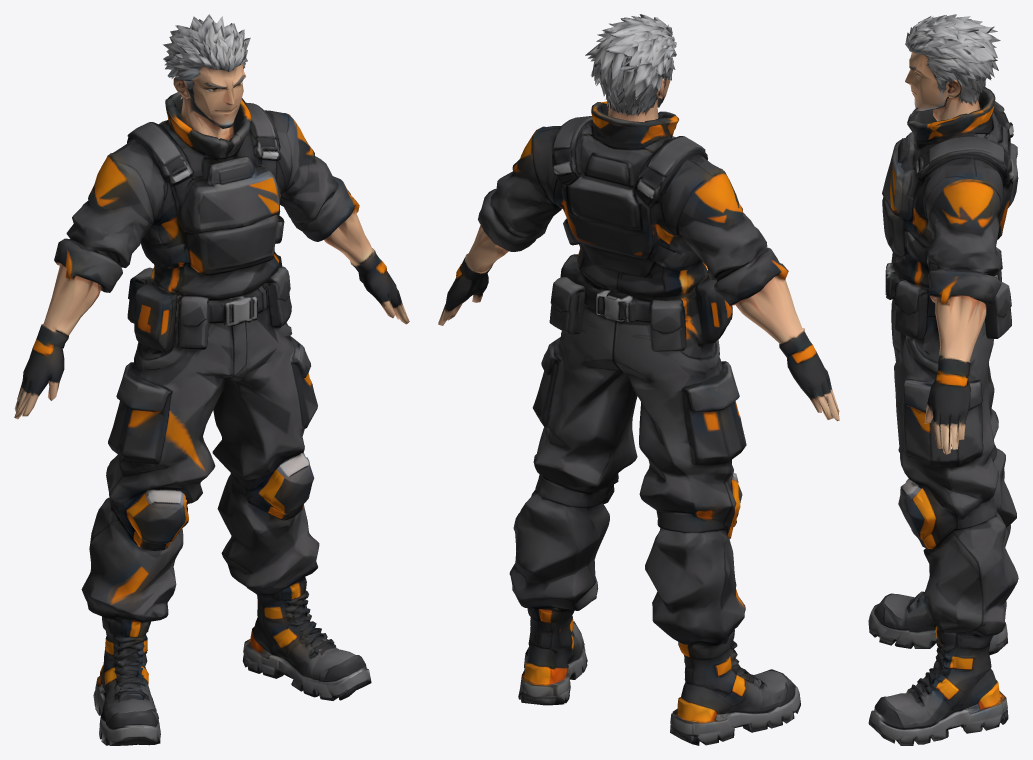
Rendered from BANDIT.fbx.
3 views of the same model, side by side, from view 1: azimuth 30°, elevation 25°; view 2: azimuth 150°, elevation 25°; view 3: azimuth 270°, elevation 25° (orthographic). The views are drawn at different scales.
Parts seen in each view (by area): view 1: BANDIT; view 2: BANDIT; view 3: BANDIT.
Boxes of the visible parts, bbox=[...] form: BANDIT: bbox=[14, 14, 409, 745]; BANDIT: bbox=[438, 14, 839, 745]; BANDIT: bbox=[868, 14, 1018, 745].
Size of the model in its own units: 0.5984 by 0.9808 by 0.199.
1 material, 1 textured.
